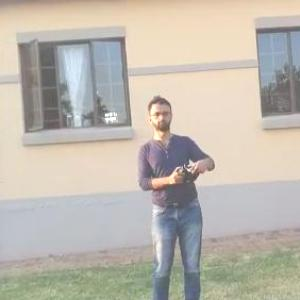follow: (132, 89, 225, 299)
